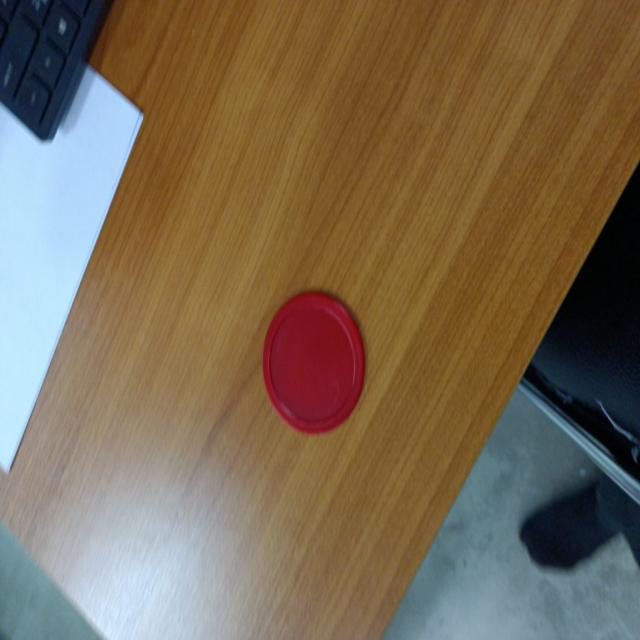chip: (259, 287, 369, 437)
